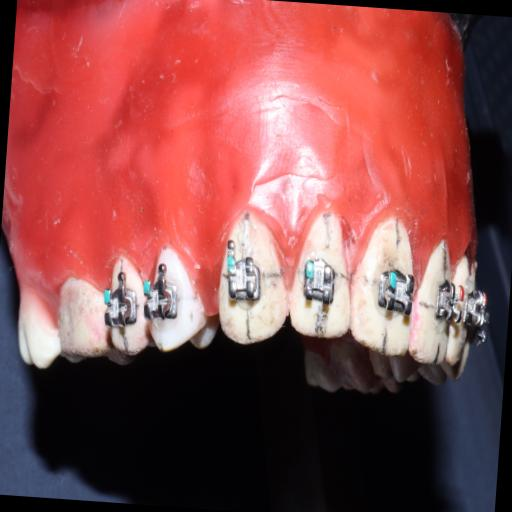incorrect_brace: (287, 204, 358, 340), (224, 254, 262, 308), (300, 253, 336, 308)
